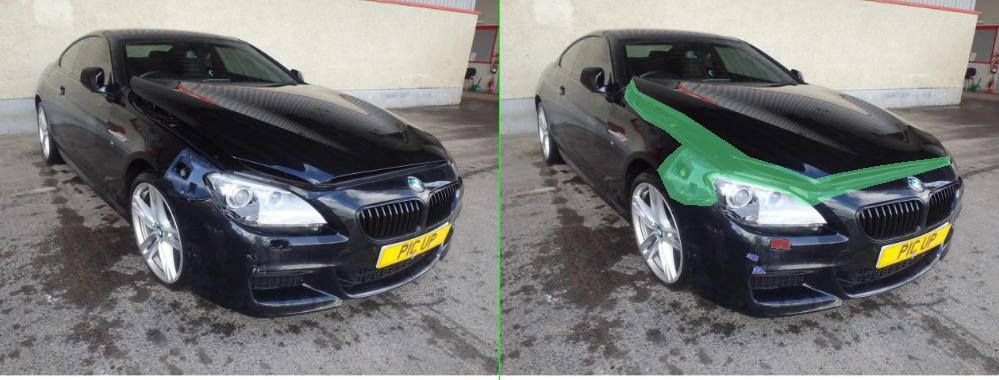Broken part: (248, 79, 899, 205)
Missing part: (324, 148, 442, 201), (543, 239, 581, 248)
Scratch: (505, 266, 531, 273), (492, 253, 517, 260)
